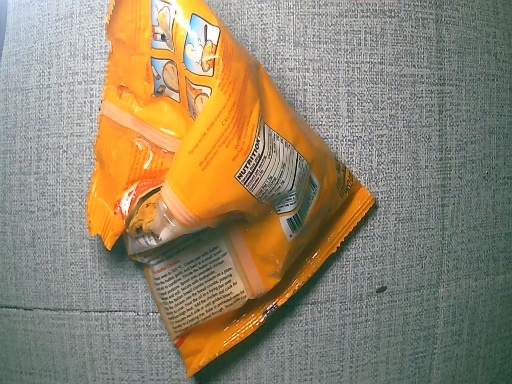plastic: (88, 1, 375, 379)
